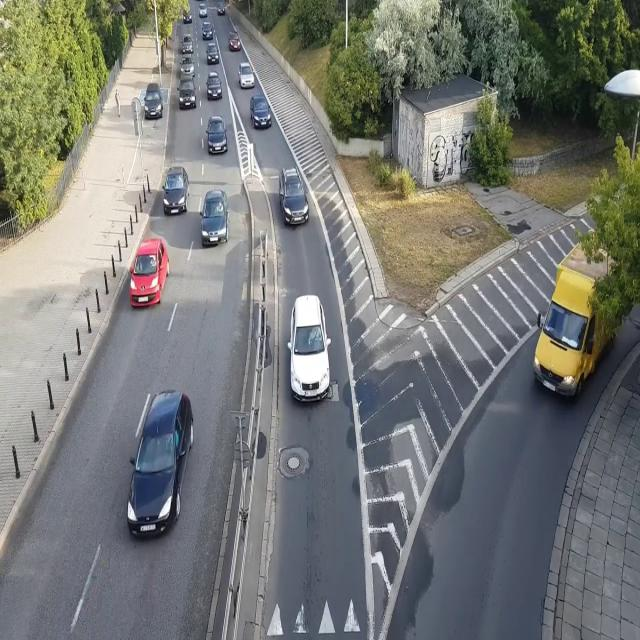car: (125, 390, 195, 540), (286, 293, 332, 404), (128, 236, 170, 309), (279, 166, 310, 226), (200, 188, 229, 245), (163, 166, 190, 216), (205, 115, 229, 155), (249, 94, 273, 132), (143, 82, 164, 118), (176, 74, 197, 110), (206, 72, 224, 101), (238, 60, 255, 90), (180, 53, 196, 77), (180, 32, 194, 54), (205, 43, 219, 65), (227, 30, 241, 51), (202, 20, 214, 42), (198, 4, 208, 18), (216, 3, 226, 16), (182, 11, 192, 22)
truck: (531, 234, 628, 402)
